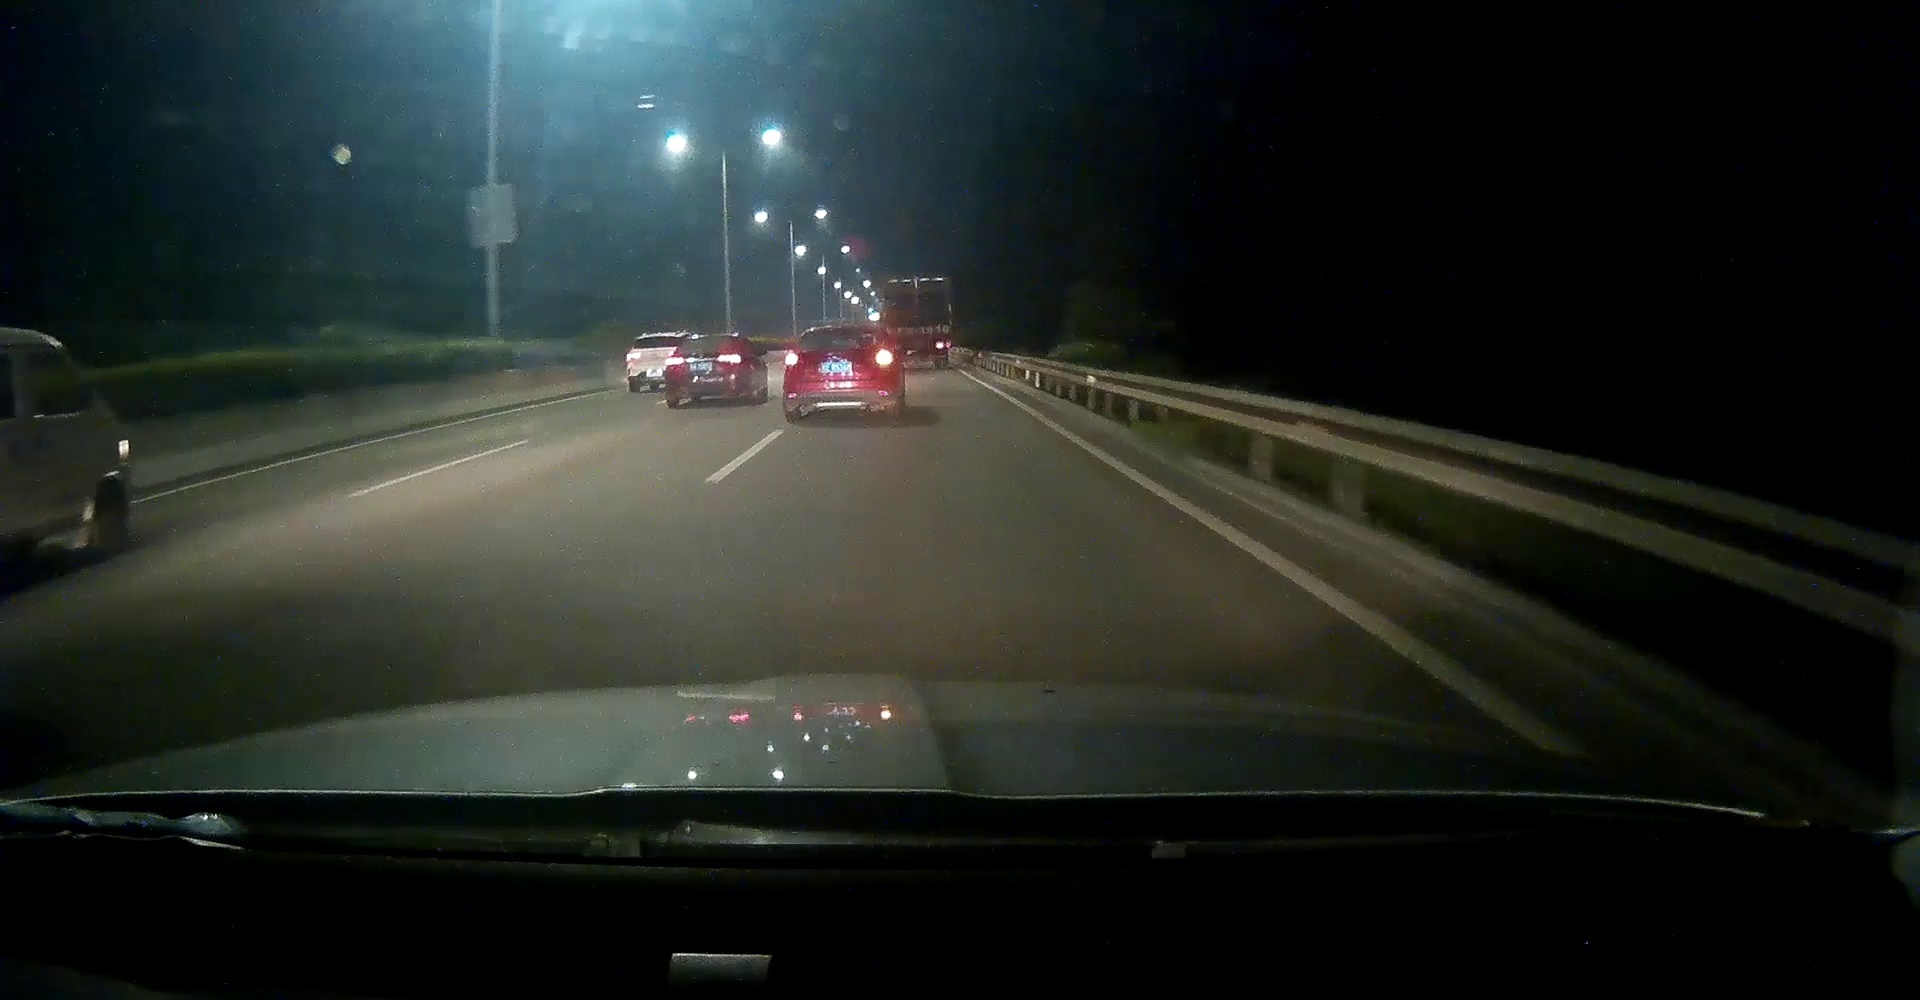L_light: (783, 352, 799, 365), (665, 357, 683, 365)
R_light: (875, 352, 894, 365), (717, 354, 742, 364)
T_light: (836, 327, 850, 331), (703, 338, 715, 340)
night-no: (783, 324, 900, 423), (662, 332, 745, 407)
